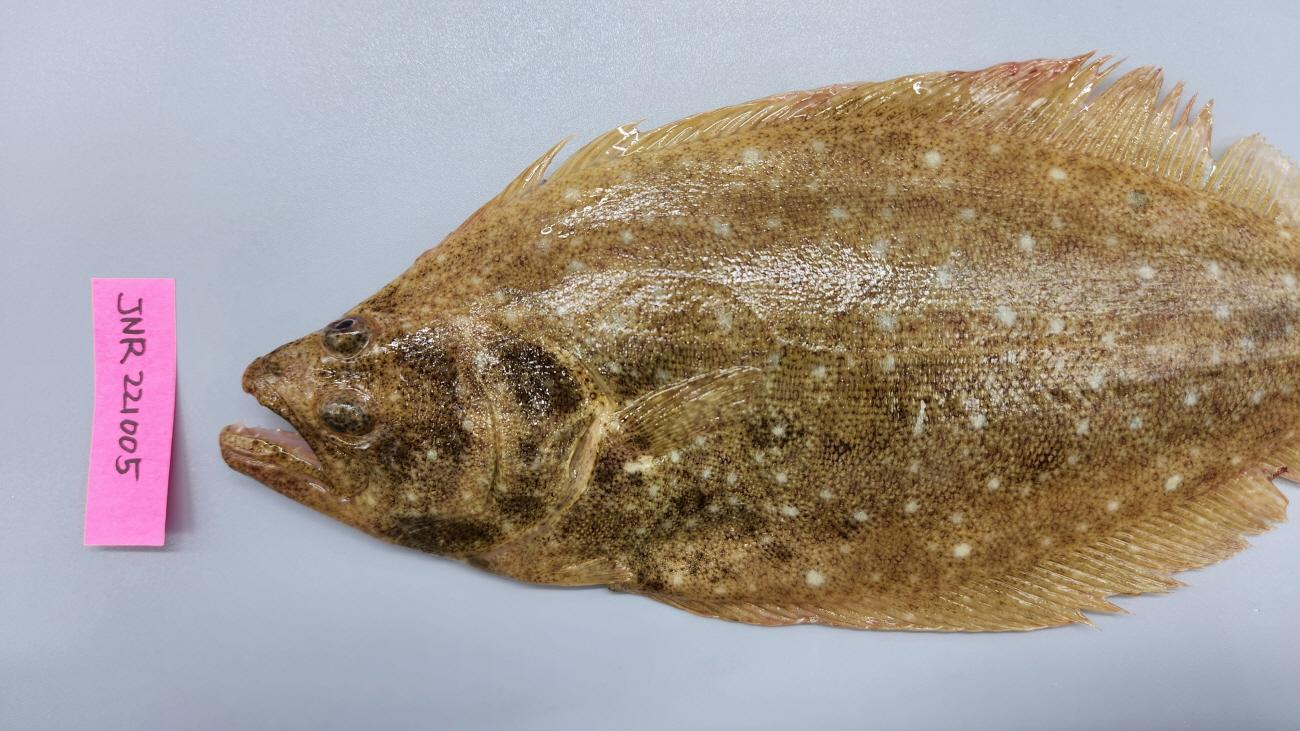POOUN: (216, 50, 1300, 636)
